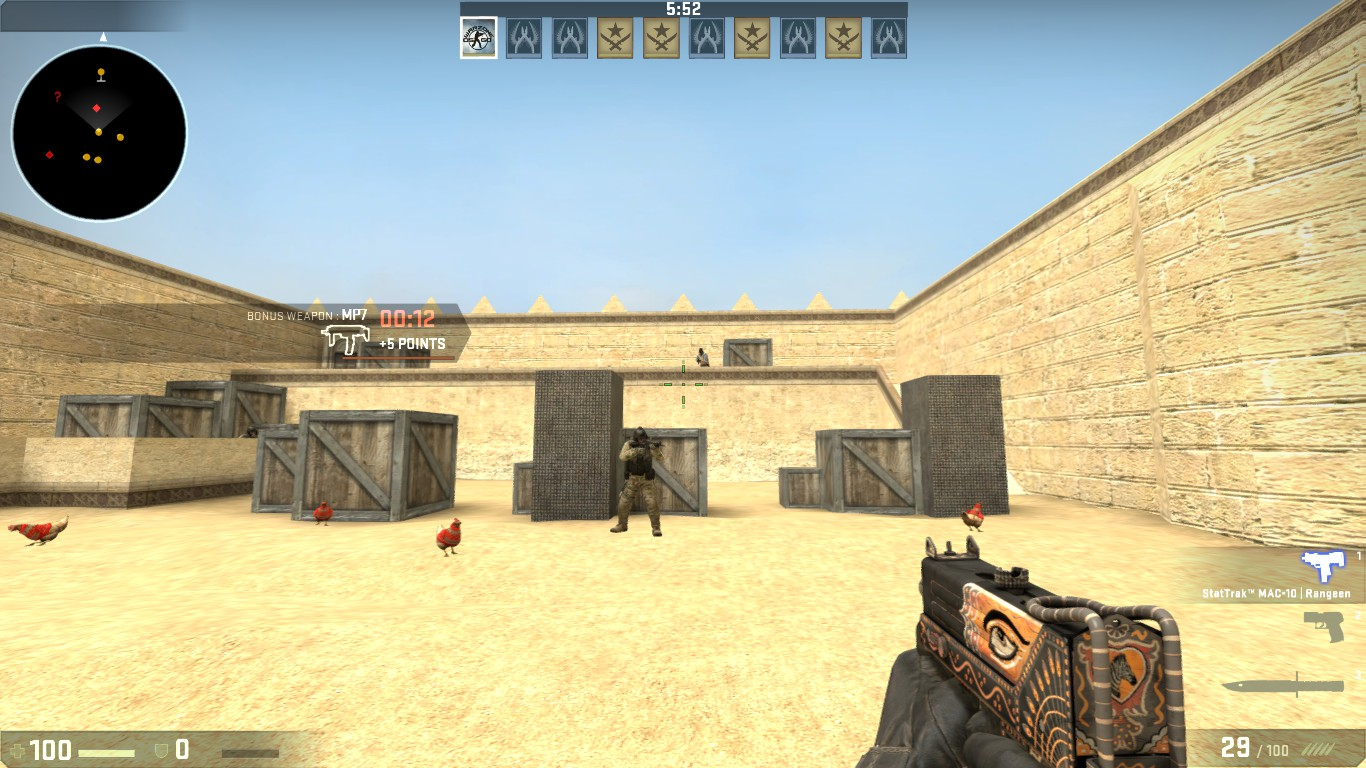c: (612, 424, 662, 538)
ch: (629, 425, 652, 448)
t: (694, 347, 712, 368)
